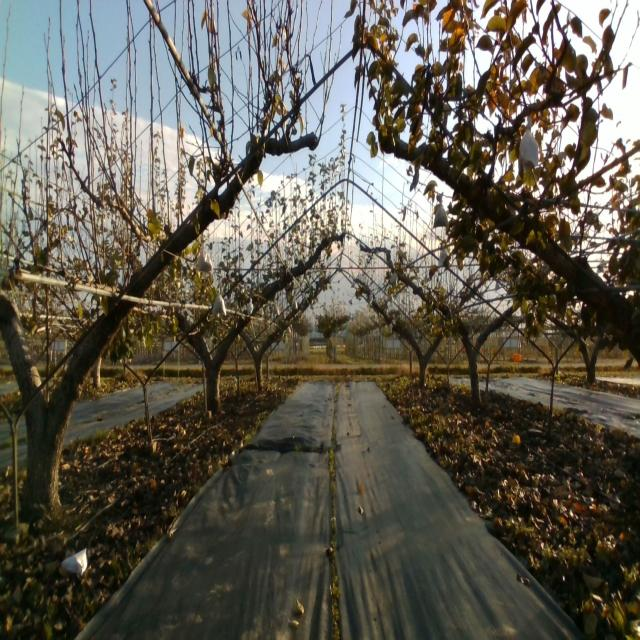pearbags: (518, 116, 540, 166), (432, 192, 449, 228), (212, 287, 227, 316), (197, 248, 213, 273)
